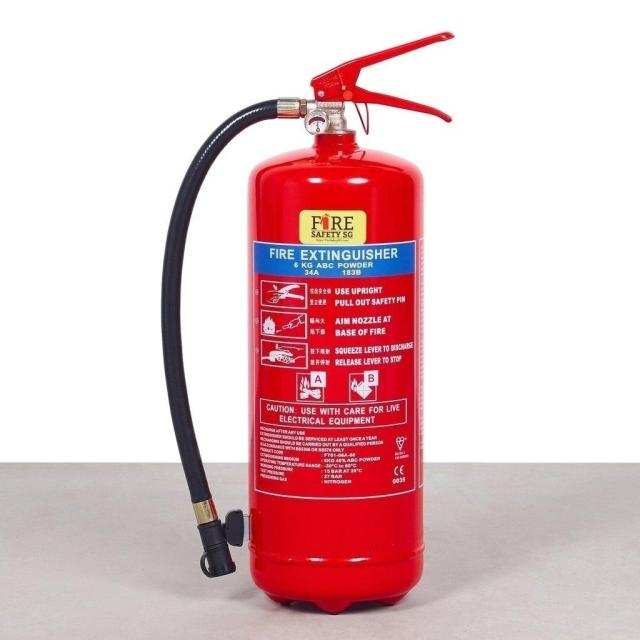fire_extinguisher: (155, 26, 458, 620)
